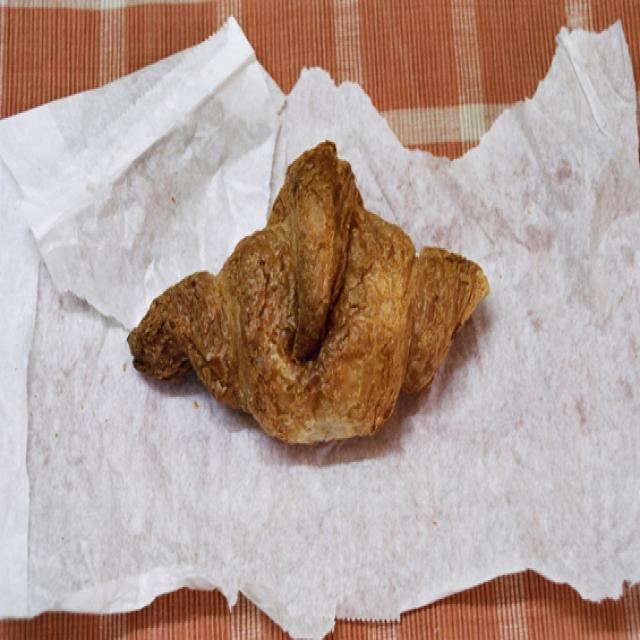Croissant: (135, 131, 479, 470)
